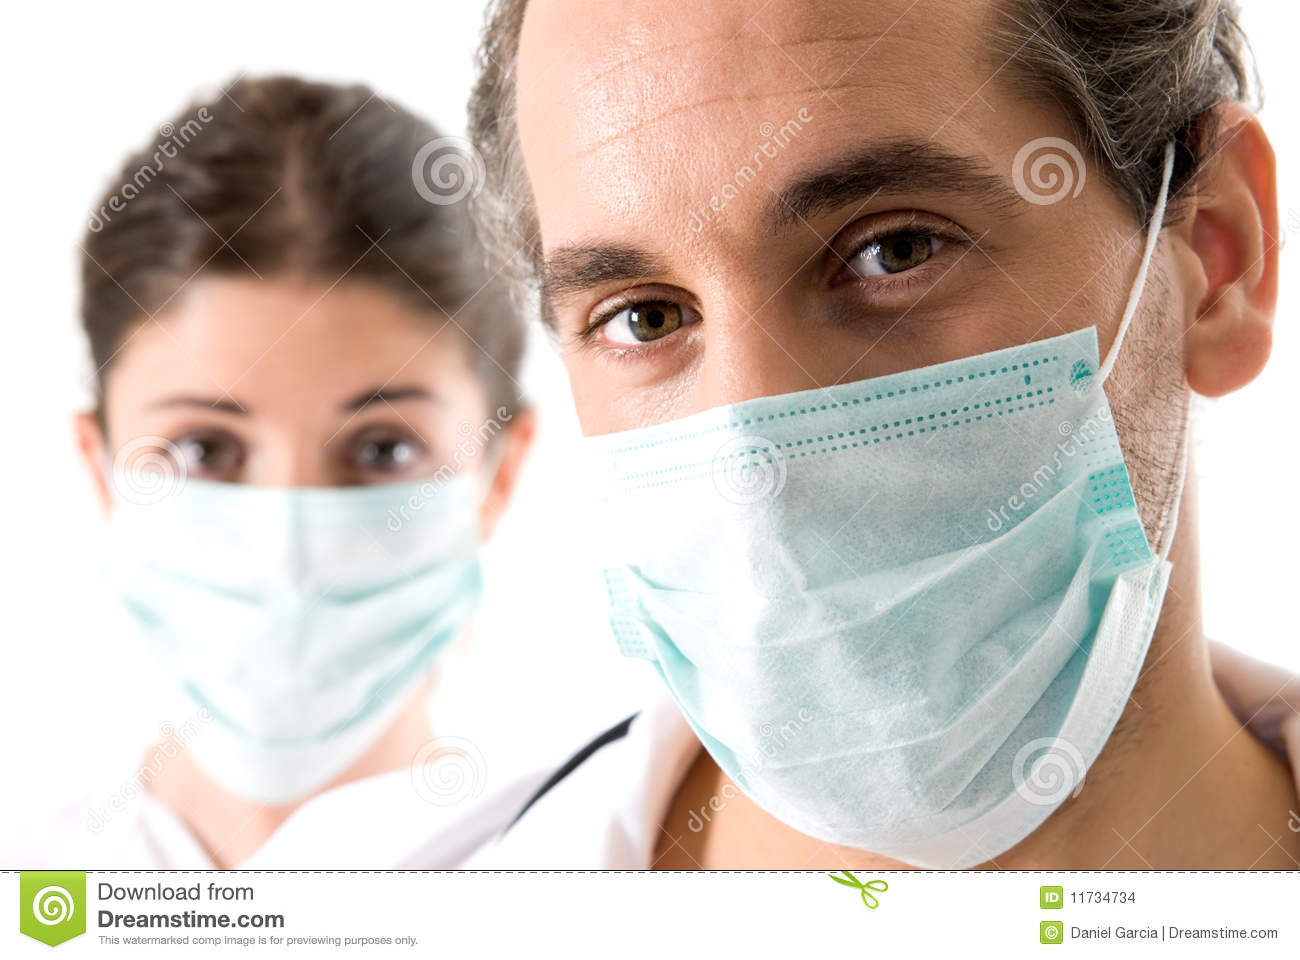mask: (567, 335, 1170, 875)
